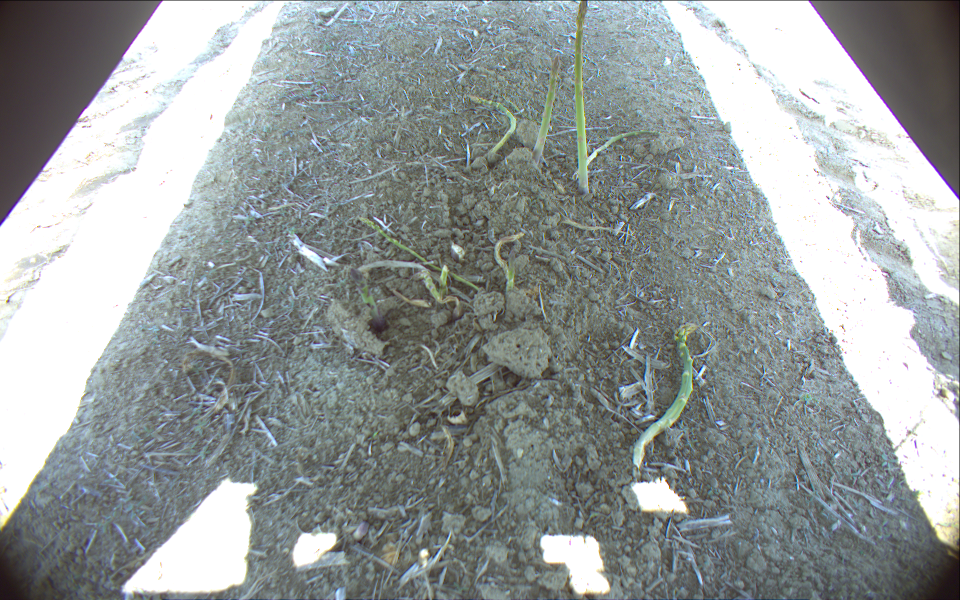aspa: (358, 215, 481, 292), (634, 323, 697, 468), (573, 129, 660, 179), (573, 1, 593, 194), (467, 94, 518, 162), (531, 55, 560, 165), (494, 229, 528, 290), (348, 269, 383, 328), (420, 273, 458, 308), (507, 261, 517, 292), (439, 266, 451, 290)
